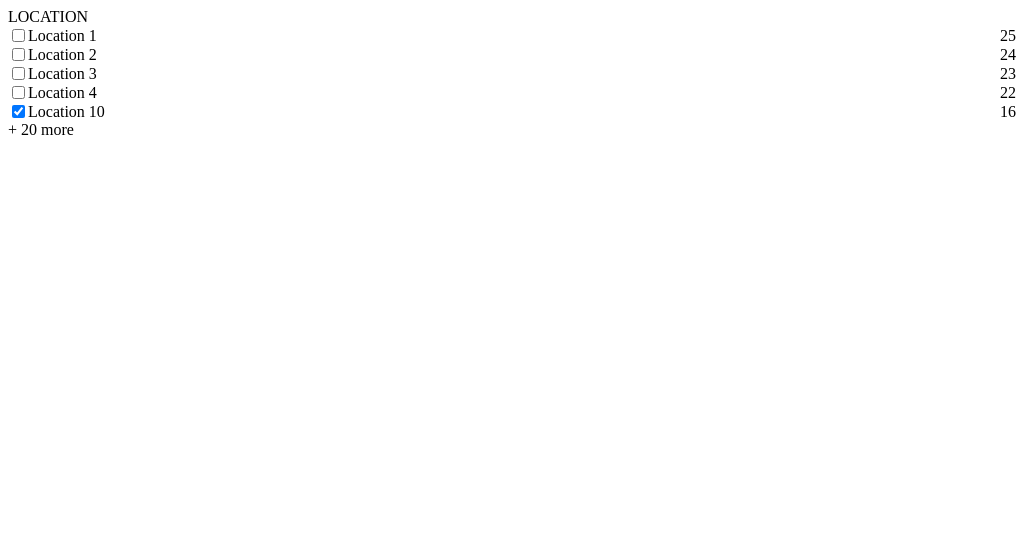
FacetGroup › excludes a below-fold selection from the expander's count and keeps the control while expanded
Click the button "+ 20 more": point(41, 130) [8, 121, 74, 139]
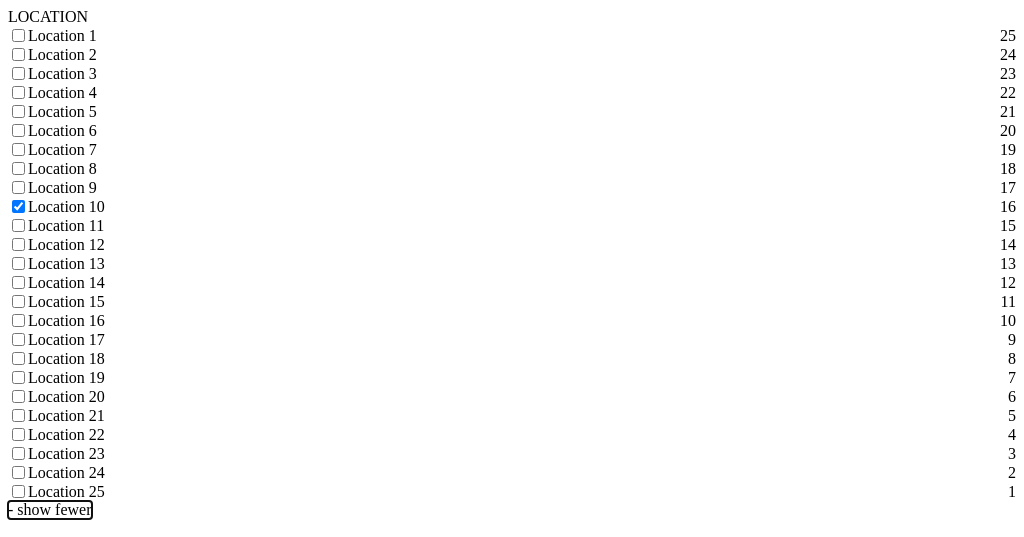
Now the button "- show fewer" is shown, box [8, 501, 92, 519]
